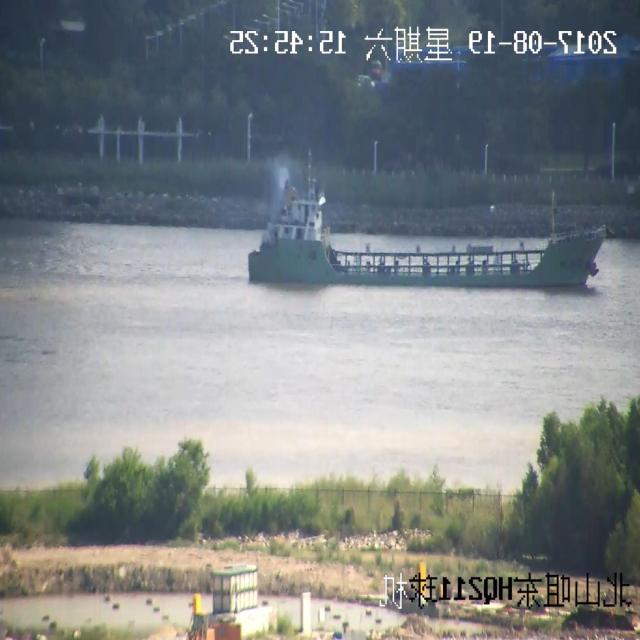houseboat: (237, 151, 618, 297)
